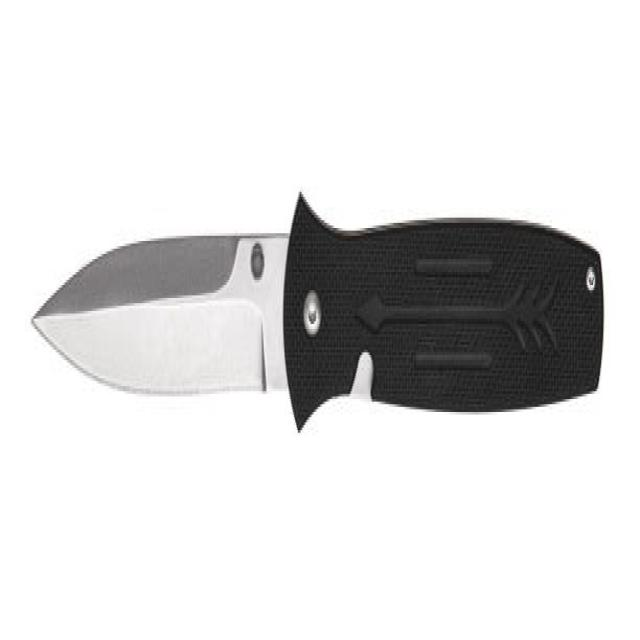knife: (17, 192, 613, 454)
